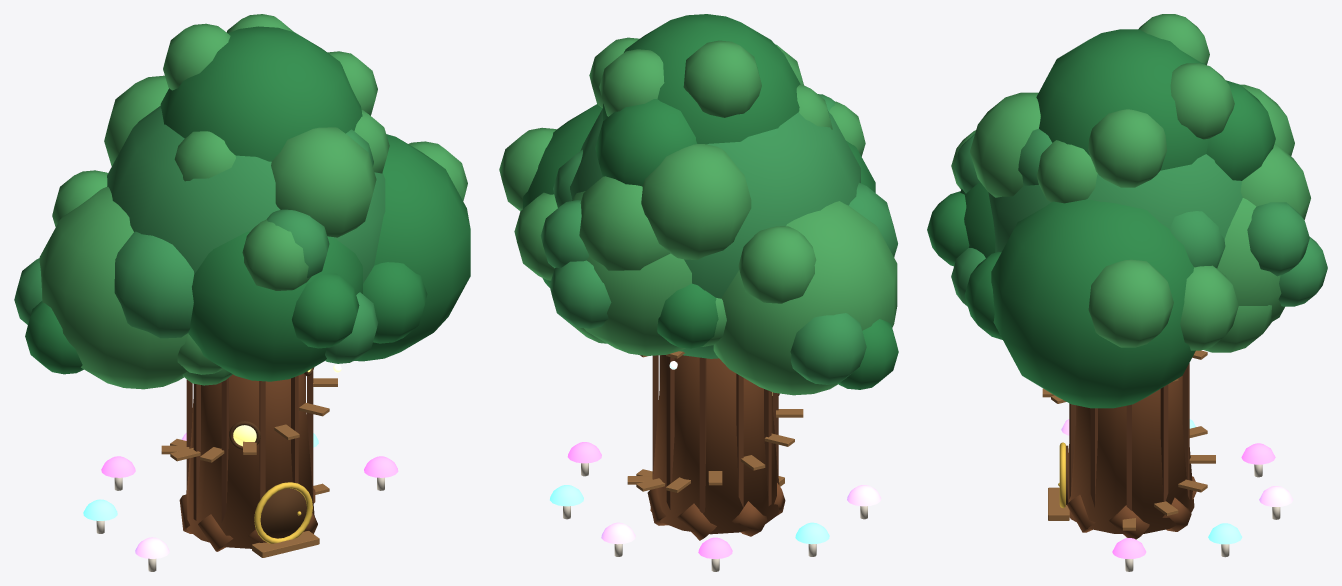
The model's file is strom.glb.
The picture shows the model from 3 angles, left to right: view 1: azimuth 30°, elevation 25°; view 2: azimuth 150°, elevation 25°; view 3: azimuth 270°, elevation 25°; orthographic projection.
Parts seen in each view (by area): view 1: strom; view 2: strom; view 3: strom.
Boxes of the visible parts, x1=… form: strom: x1=14, y1=14, x2=470, y2=571; strom: x1=499, y1=14, x2=898, y2=571; strom: x1=927, y1=14, x2=1327, y2=571.
Size of the model in its own units: 17.11 by 19.88 by 14.78.
Materials: 2 (2 with a texture image).
